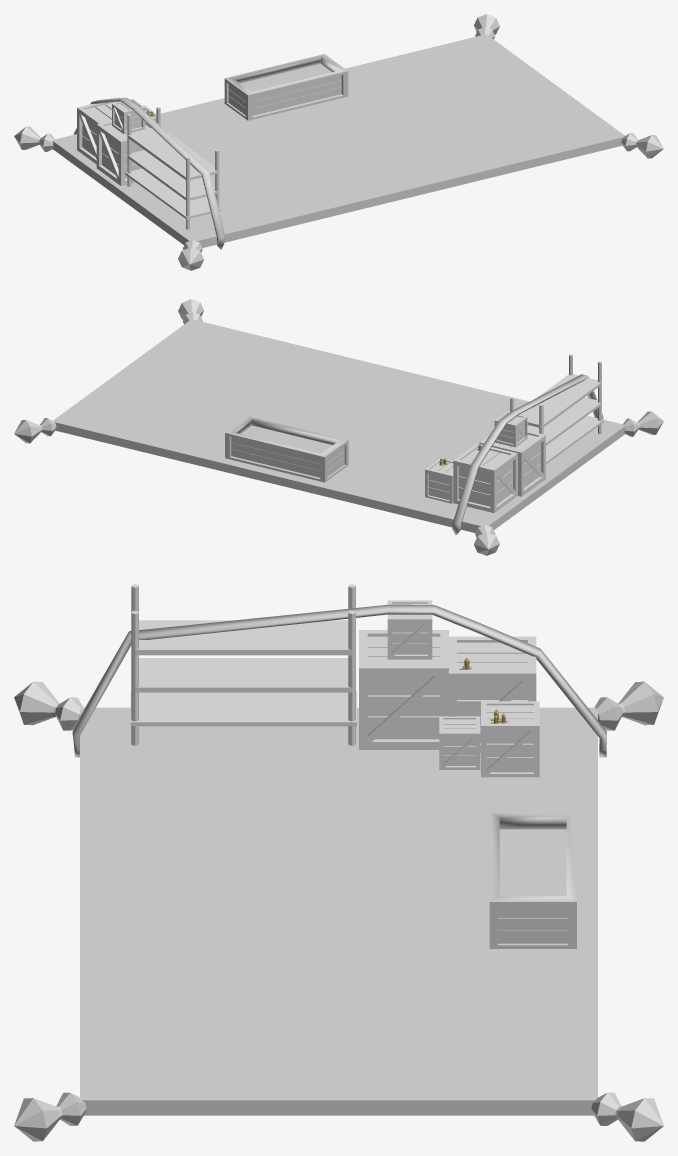
File: THE_CARPET_BAZAAR.fbx
3 renders of one model, top to bottom at view 1: azimuth 30°, elevation 25°; view 2: azimuth 150°, elevation 25°; view 3: azimuth 270°, elevation 25°, orthographic. The views are drawn at different scales.
Visible parts, largest first — view 1: Alfombra, Caja, Estanteria, Penachos, Cube.004, Correa, Cube, Cube.003; view 2: Alfombra, Caja, Estanteria, Cube, Penachos, Correa, Cube.004, Cube.005, Cube.003; view 3: Alfombra, Estanteria, Caja, Cube.004, Penachos, Correa, Cube, Cube.005, Cube.003, Cube.001.
Part boxes in pixels (left/top/right/bottom): Alfombra: left=52, top=34, right=624, bottom=247; Caja: left=224, top=54, right=348, bottom=120; Estanteria: left=125, top=107, right=220, bottom=229; Penachos: left=14, top=14, right=663, bottom=270; Cube.004: left=96, top=120, right=150, bottom=185; Correa: left=73, top=97, right=225, bottom=249; Cube: left=77, top=97, right=119, bottom=164; Cube.003: left=112, top=98, right=144, bottom=134; Alfombra: left=53, top=319, right=625, bottom=532; Caja: left=225, top=415, right=348, bottom=482; Estanteria: left=510, top=354, right=603, bottom=464; Cube: left=453, top=443, right=517, bottom=512; Penachos: left=14, top=299, right=663, bottom=555; Correa: left=452, top=374, right=603, bottom=535; Cube.004: left=479, top=430, right=545, bottom=496; Cube.005: left=425, top=458, right=453, bottom=503; Cube.003: left=494, top=412, right=527, bottom=447; Alfombra: left=80, top=707, right=597, bottom=1115; Estanteria: left=130, top=584, right=356, bottom=745; Caja: left=489, top=811, right=576, bottom=948; Cube.004: left=359, top=630, right=448, bottom=749; Penachos: left=14, top=681, right=663, bottom=1141; Correa: left=72, top=604, right=606, bottom=757; Cube: left=448, top=636, right=536, bottom=752; Cube.005: left=481, top=701, right=539, bottom=777; Cube.003: left=387, top=600, right=432, bottom=659; Cube.001: left=439, top=716, right=480, bottom=769.
Size of the model in its own units: 16.71 by 2.9 by 10.59.
